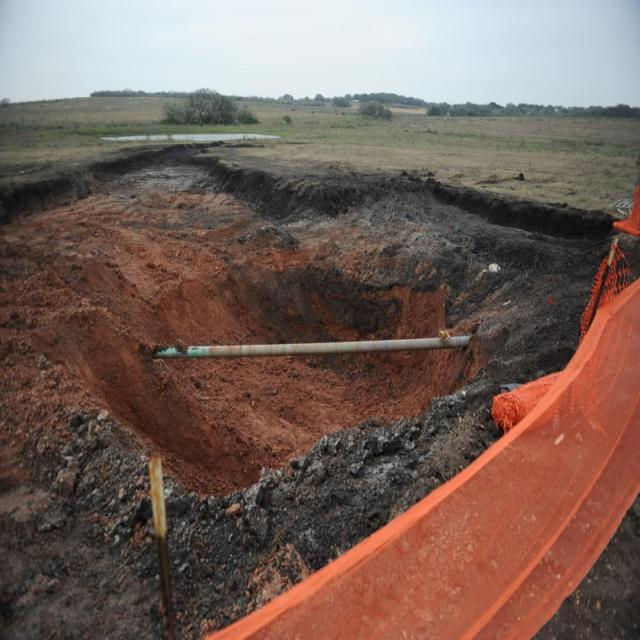gas: (152, 337, 471, 359)
